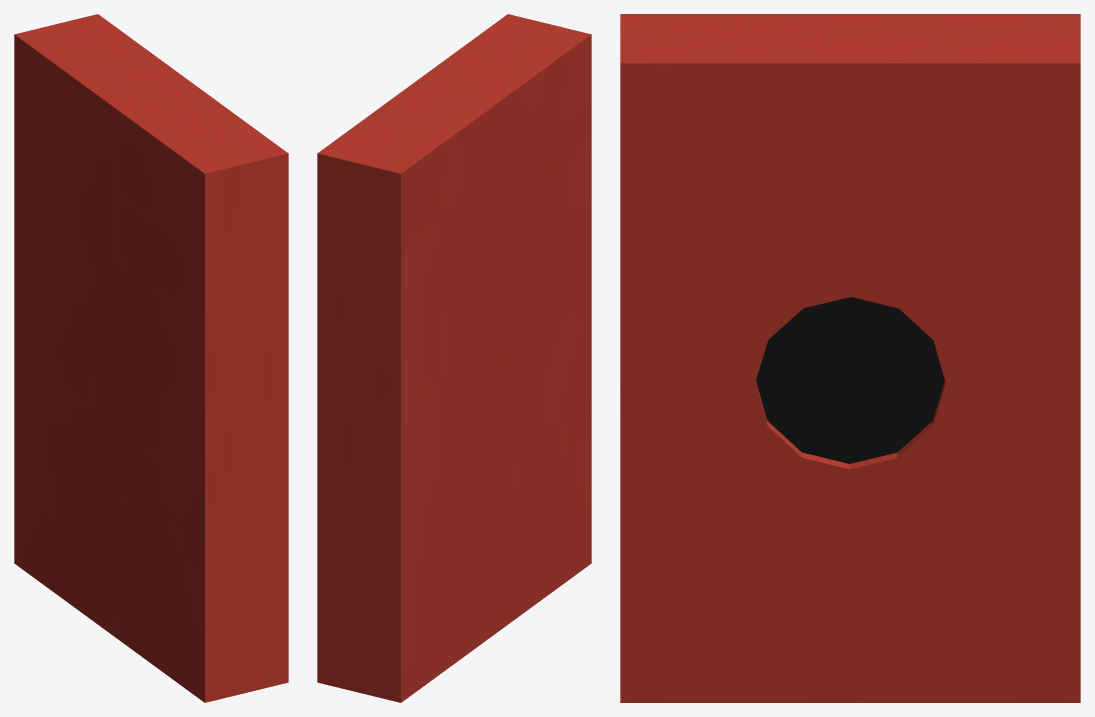
File: SM_Caixa De Bombeiro.fbx
The picture shows the model from 3 angles, left to right: view 1: azimuth 30°, elevation 25°; view 2: azimuth 150°, elevation 25°; view 3: azimuth 270°, elevation 25°; orthographic projection. The views are drawn at different scales.
Visible parts, largest first — view 1: SM_Caixa De Bombeiro; view 2: SM_Caixa De Bombeiro; view 3: SM_Caixa De Bombeiro.
Part boxes in pixels (bbox=[...]): SM_Caixa De Bombeiro: bbox=[14, 14, 288, 702]; SM_Caixa De Bombeiro: bbox=[317, 14, 591, 702]; SM_Caixa De Bombeiro: bbox=[620, 14, 1080, 702].
Bounding box in the file's own units: 17.64 × 106 × 68.87.
